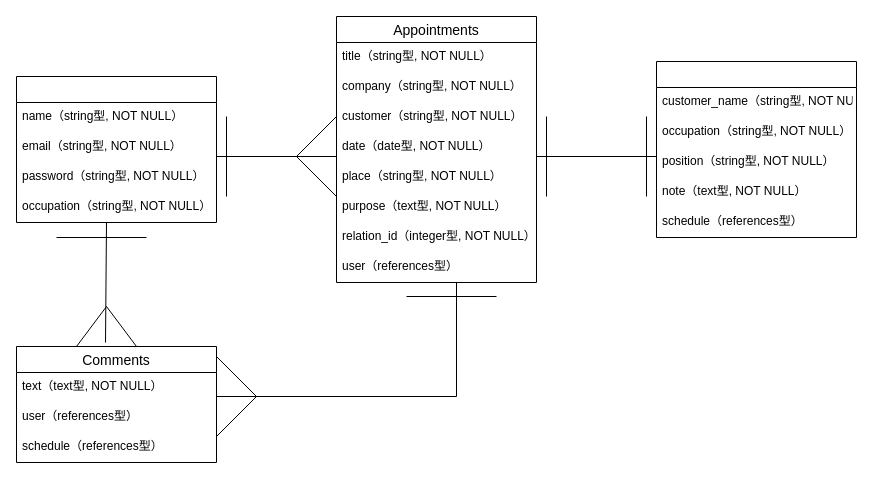
This 896x479 diagram has some shape labels left out. The box of each missing label's shape, as (x1, y1, x2, y2) in pixels:
Profiles: (656, 60, 856, 238)
Users: (16, 76, 216, 222)
